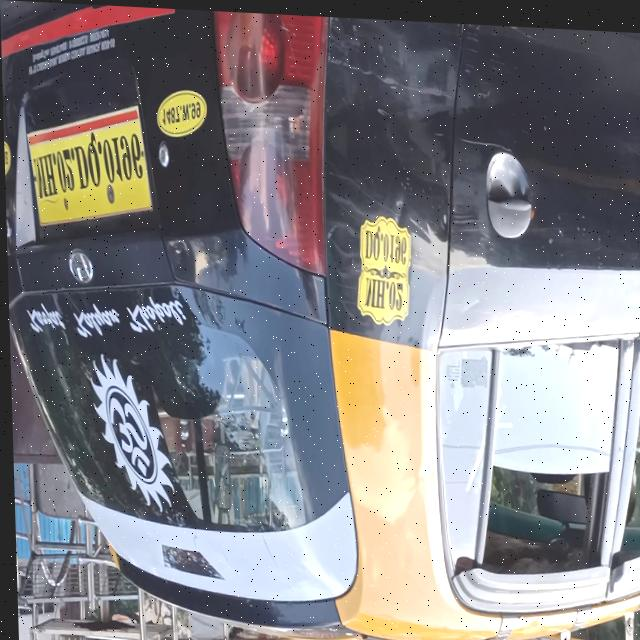plate: (23, 96, 154, 239), (348, 205, 419, 330)
